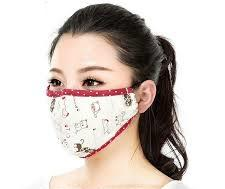OK: (45, 66, 136, 157)
